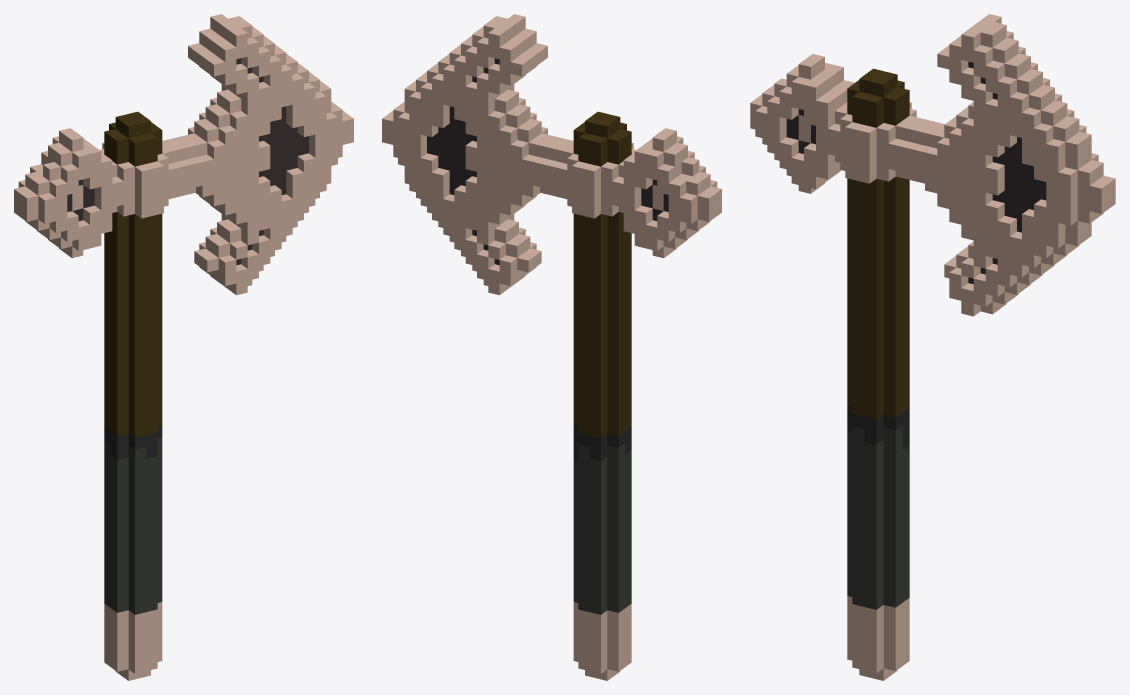
Rendered from axe.glb.
The picture shows the model from 3 angles, left to right: view 1: azimuth 30°, elevation 25°; view 2: azimuth 150°, elevation 25°; view 3: azimuth 330°, elevation 25°; orthographic projection. The views are drawn at different scales.
Visible parts, largest first — view 1: Untitled; view 2: Untitled; view 3: Untitled.
Boxes of the visible parts, x1,y1,x2,y2 form: Untitled: (14, 14, 353, 680); Untitled: (382, 14, 721, 680); Untitled: (750, 14, 1115, 680).
Bounding box in the file's own units: 2.9 × 5.3 × 0.5998.
1 material, 1 textured.
